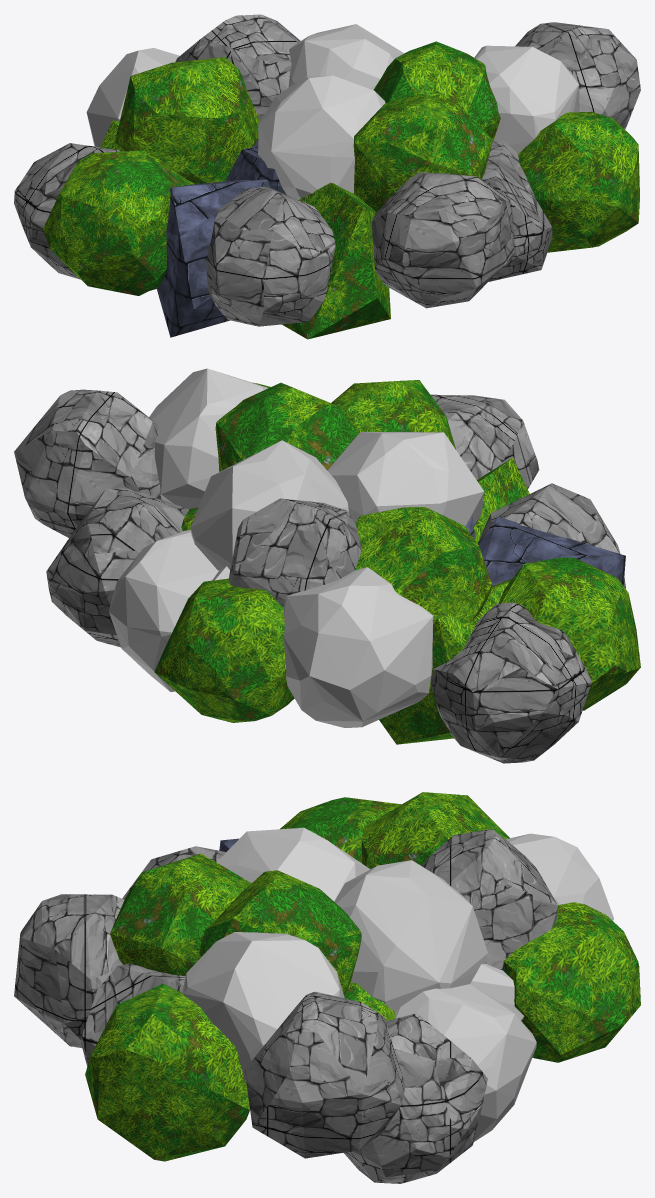
File: newrock.fbx
3 renders of one model, top to bottom at view 1: azimuth 30°, elevation 25°; view 2: azimuth 150°, elevation 25°; view 3: azimuth 270°, elevation 25°, orthographic. The views are drawn at different scales.
Visible parts, largest first — view 1: newrock; view 2: newrock; view 3: newrock.
Boxes of the visible parts, x1,y1,x2,y2 form: newrock: (14, 14, 640, 339); newrock: (14, 368, 640, 763); newrock: (14, 792, 640, 1183).
Size of the model in its own units: 4.06 by 1.52 by 3.43.
